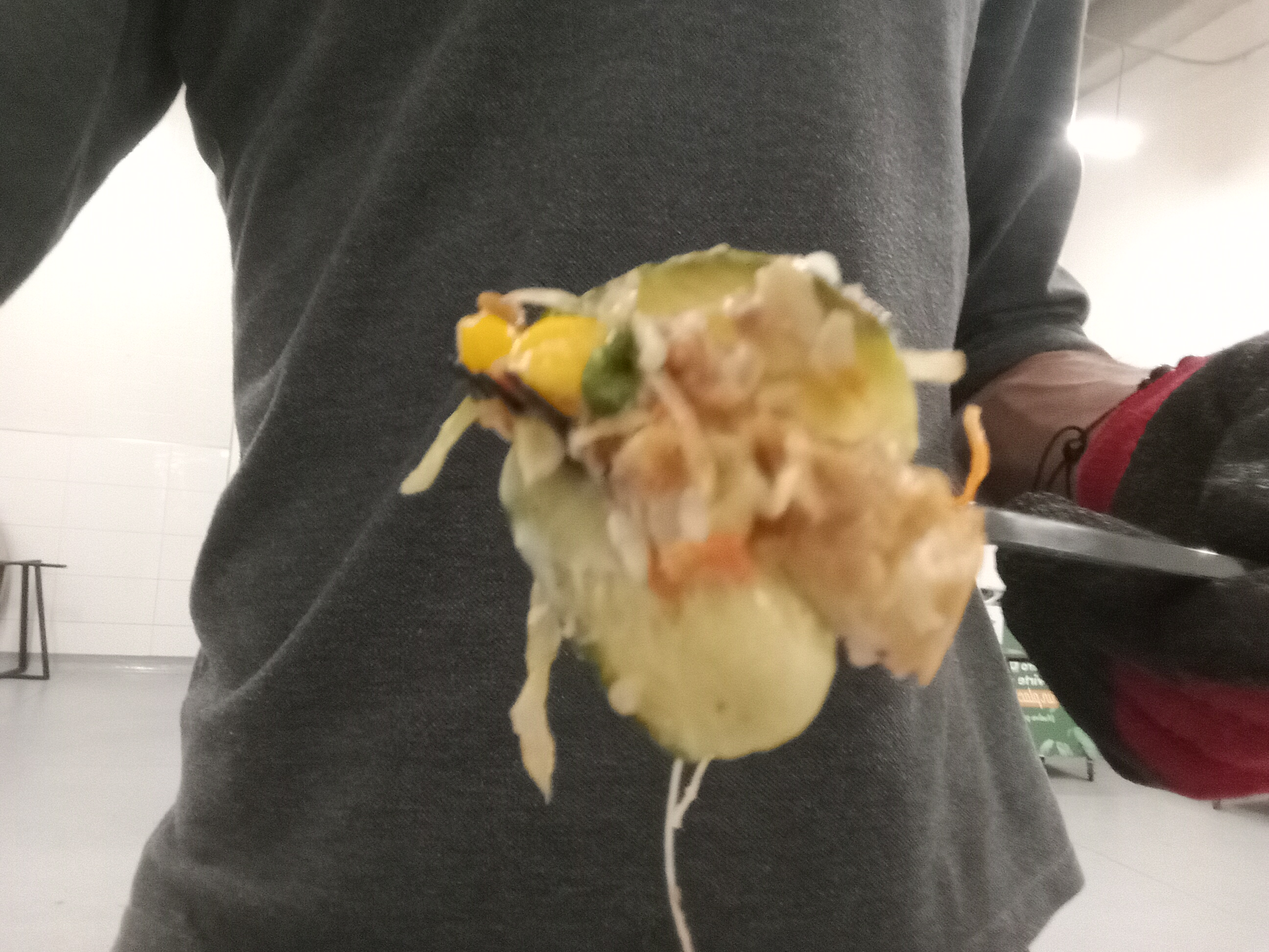Organico: (404, 243, 988, 807)
